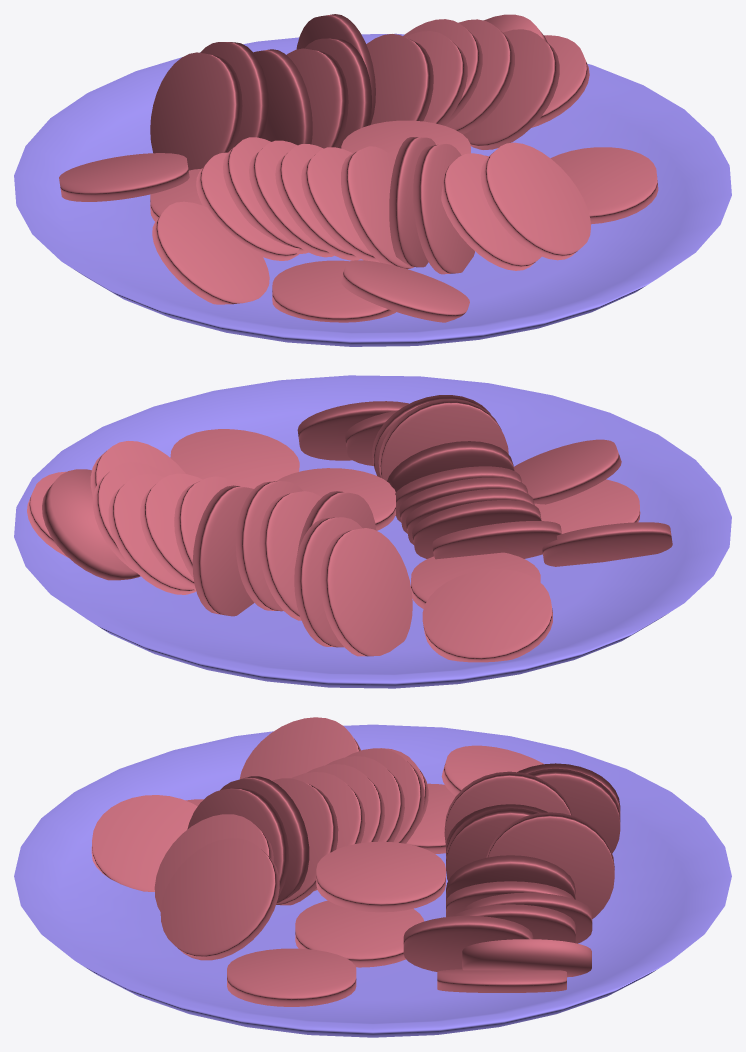
File: bordjekweekvlees.fbx
3 renders of one model, top to bottom at view 1: azimuth 30°, elevation 25°; view 2: azimuth 150°, elevation 25°; view 3: azimuth 270°, elevation 25°, orthographic.
Parts seen in each view (by area): view 1: bord, worstjes.024, worstjes.025, worstjes.029, worstjes.002, worstjes.021, worstjes.010, worstjes.023, worstjes.028, worstjes.022, worstjes.006, worstjes.013 (+19 smaller); view 2: bord, worstjes.028, worstjes.025, worstjes.021, worstjes.007, worstjes, worstjes.012, worstjes.023, worstjes.009, worstjes.029, worstjes.004, worstjes.026 (+19 smaller); view 3: bord, worstjes.024, worstjes.030, worstjes.023, worstjes.007, worstjes.021, worstjes.020, worstjes.029, worstjes.002, worstjes, worstjes.027, worstjes.013 (+18 smaller).
Boxes of the visible parts, box(x1,y1,x2,y2) form: bord: box(14, 33, 731, 346); worstjes.024: box(480, 142, 590, 260); worstjes.025: box(150, 52, 242, 170); worstjes.029: box(152, 201, 269, 304); worstjes.002: box(463, 29, 559, 149); worstjes.021: box(550, 147, 658, 224); worstjes.010: box(441, 153, 541, 270); worstjes.023: box(341, 260, 469, 322); worstjes.028: box(59, 153, 189, 201); worstjes.022: box(272, 260, 395, 322); worstjes.006: box(366, 34, 433, 124); worstjes.013: box(341, 146, 414, 269); bord: box(14, 375, 731, 688); worstjes.028: box(422, 569, 552, 662); worstjes.025: box(320, 528, 412, 656); worstjes.021: box(170, 429, 299, 488); worstjes.007: box(192, 485, 254, 616); worstjes: box(42, 469, 140, 580); worstjes.012: box(378, 399, 508, 481); worstjes.023: box(514, 439, 621, 504); worstjes.009: box(259, 491, 321, 620); worstjes.029: box(542, 522, 672, 566); worstjes.004: box(108, 474, 196, 594); worstjes.026: box(294, 517, 362, 647); bord: box(14, 724, 731, 1037); worstjes.024: box(160, 838, 279, 960); worstjes.030: box(316, 841, 445, 912); worstjes.023: box(91, 795, 197, 891); worstjes.007: box(486, 812, 614, 918); worstjes.021: box(227, 948, 356, 1006); worstjes.020: box(295, 900, 423, 967); worstjes.029: box(239, 717, 360, 780); worstjes.002: box(403, 915, 533, 971); worstjes: box(462, 939, 591, 977); worstjes.027: box(444, 771, 572, 845); worstjes.013: box(272, 778, 338, 905).
Bounding box in the file's own units: 200 × 39.69 × 200.
